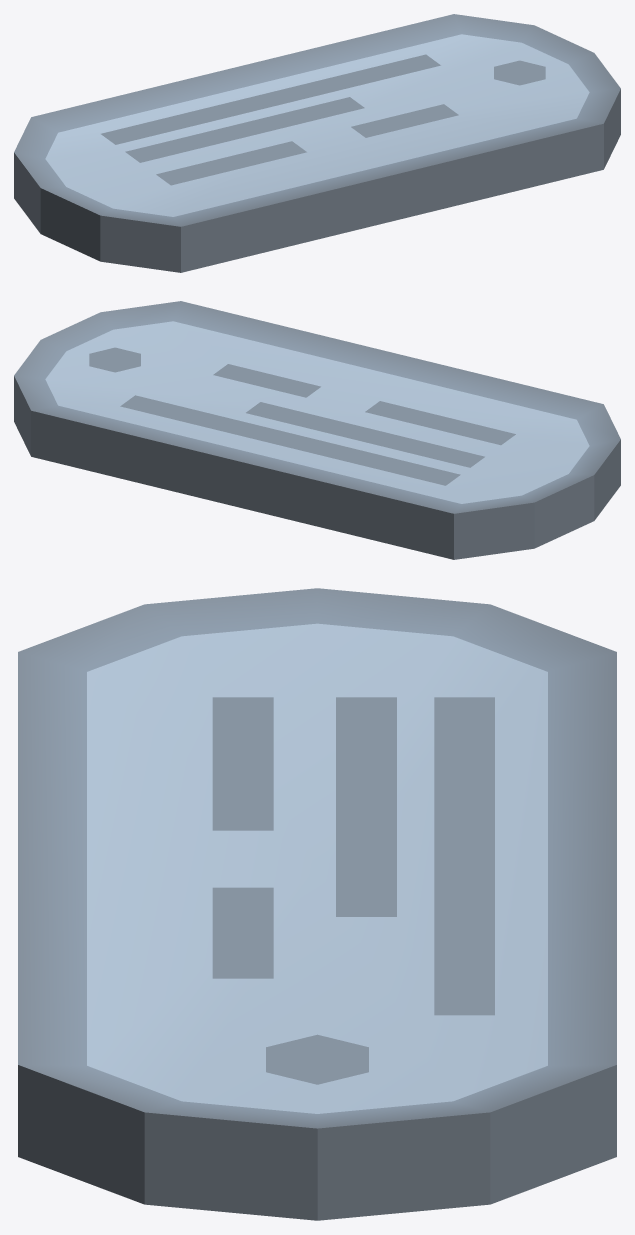
File: battle_tag.fbx
3 renders of one model, top to bottom at view 1: azimuth 30°, elevation 25°; view 2: azimuth 150°, elevation 25°; view 3: azimuth 270°, elevation 25°, orthographic. The views are drawn at different scales.
Parts seen in each view (by area): view 1: battle_tag; view 2: battle_tag; view 3: battle_tag.
Boxes of the visible parts, <box> form: battle_tag: <box>14,14,620,272</box>; battle_tag: <box>14,301,620,559</box>; battle_tag: <box>18,588,616,1220</box>.
Size of the model in its own units: 4.48 by 0.3564 by 2.1.
